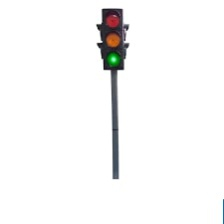semaforo: (101, 7, 124, 69)
